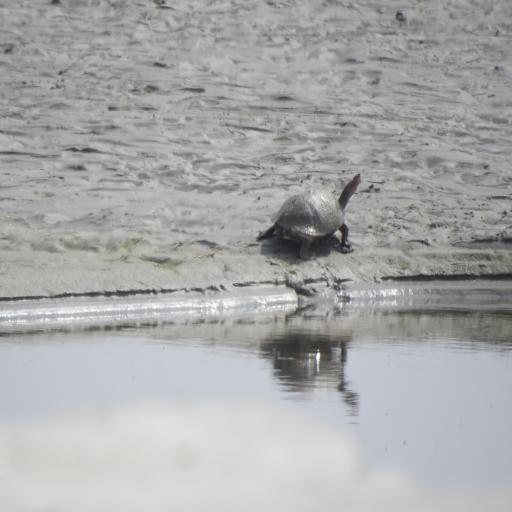turtle: (257, 167, 366, 255)
